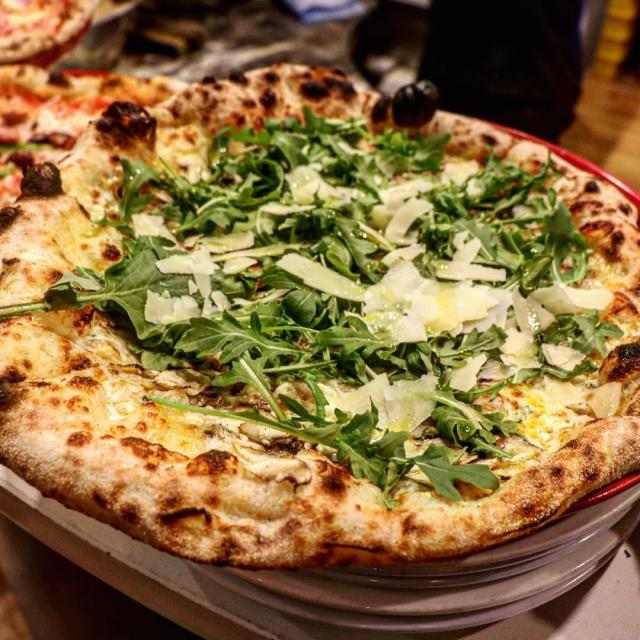pizza: (0, 65, 640, 571), (0, 63, 190, 215), (0, 0, 100, 63)
